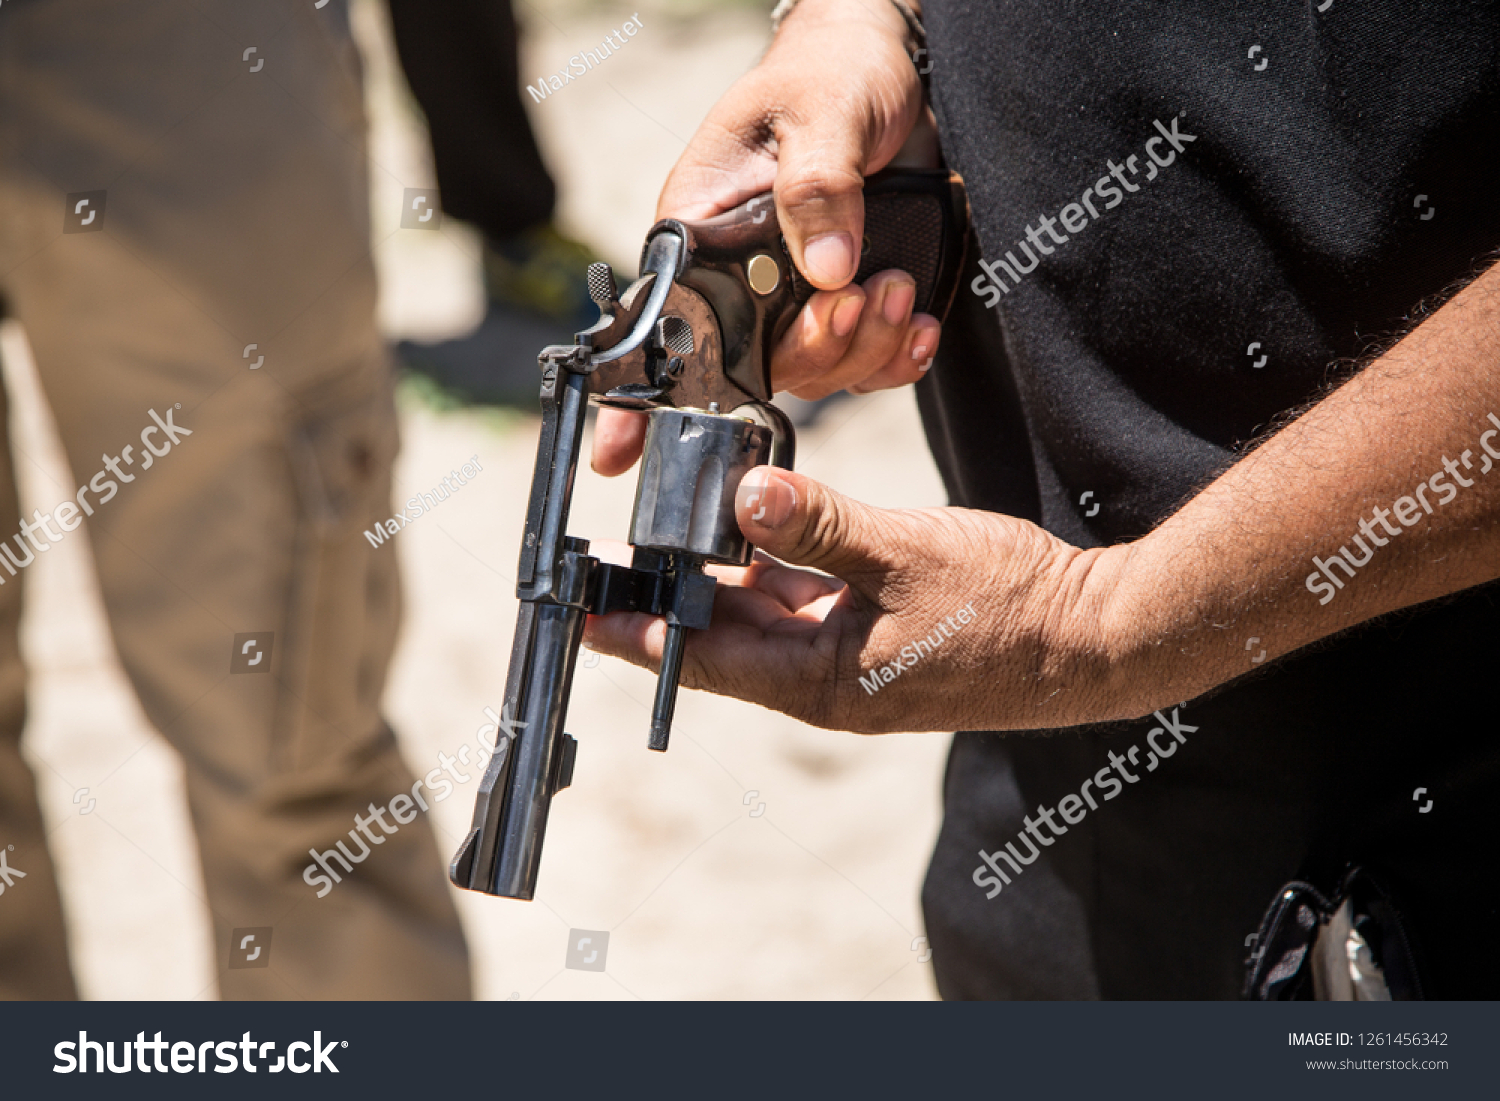gun: (395, 114, 900, 979)
